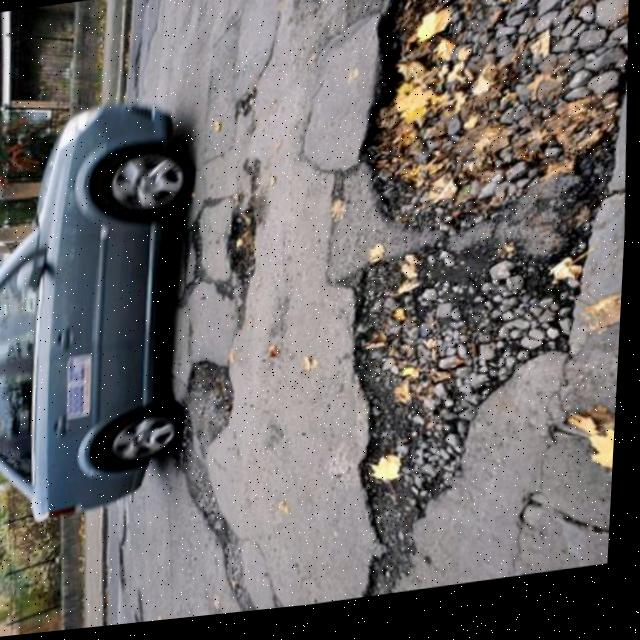Pothole: (324, 241, 577, 596), (351, 0, 635, 253), (183, 470, 260, 579), (179, 359, 251, 458), (226, 208, 267, 290), (229, 91, 257, 124)
